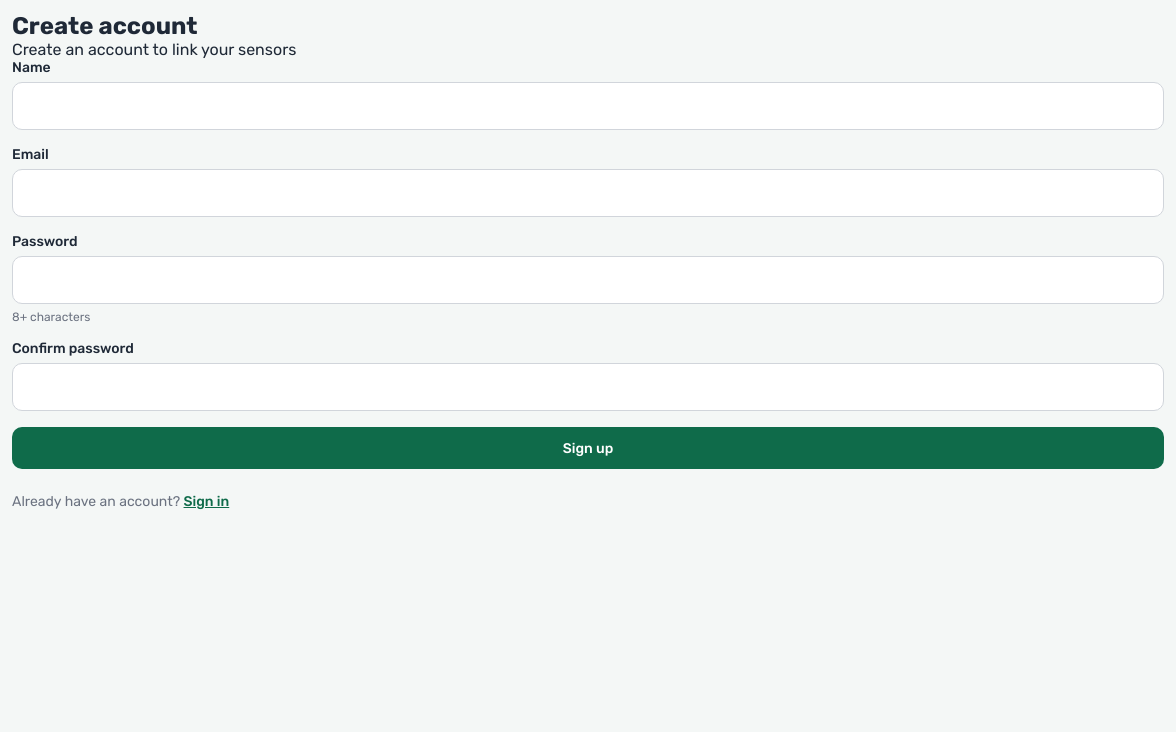
Signup › checks that the two passwords match
Type "Sara" into the field labelled "Name" at (588, 106), box [12,82,1164,130]
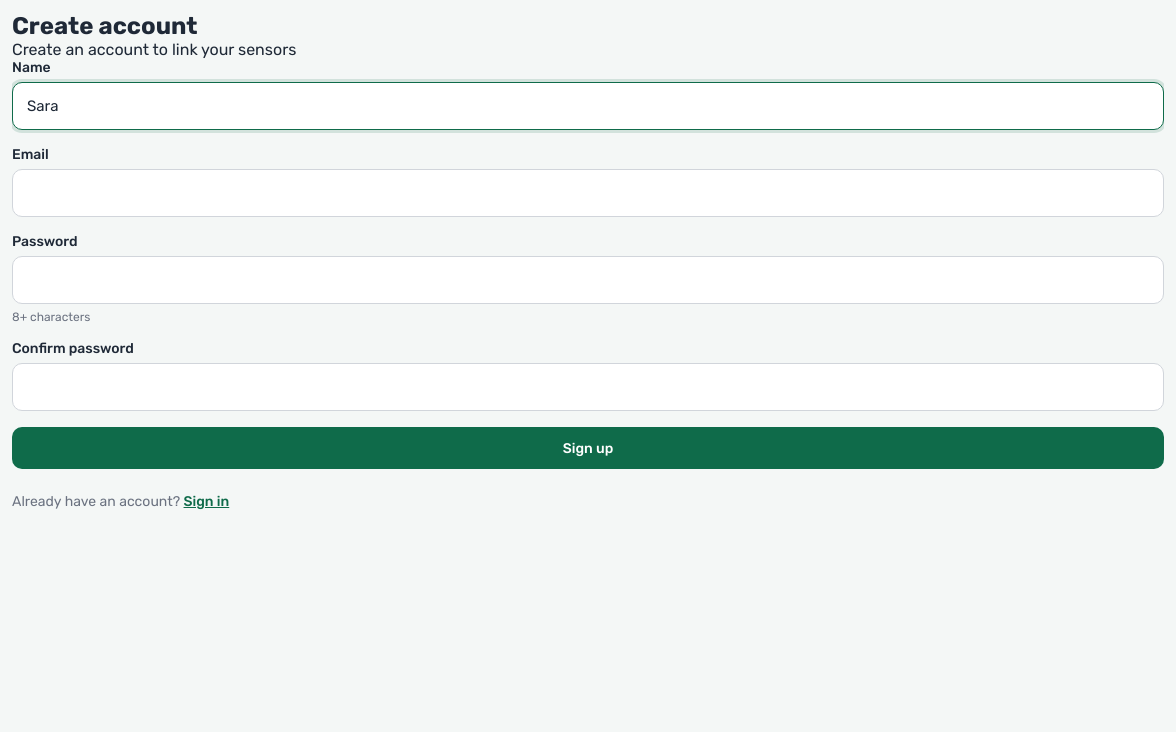
Type "sara@example.com" into the field labelled "Email" at (588, 193), box [12,169,1164,217]
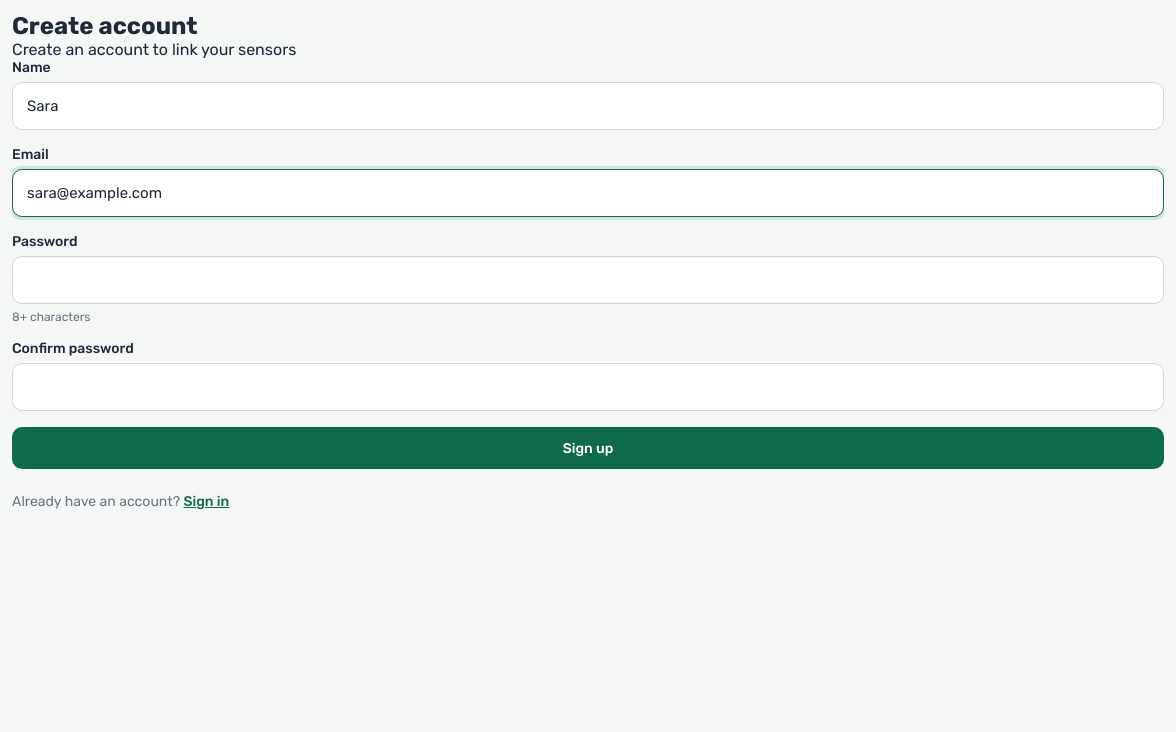
Type "password-1" into the password field labelled "Password 8+ characters" at (588, 280), box [12,256,1164,304]
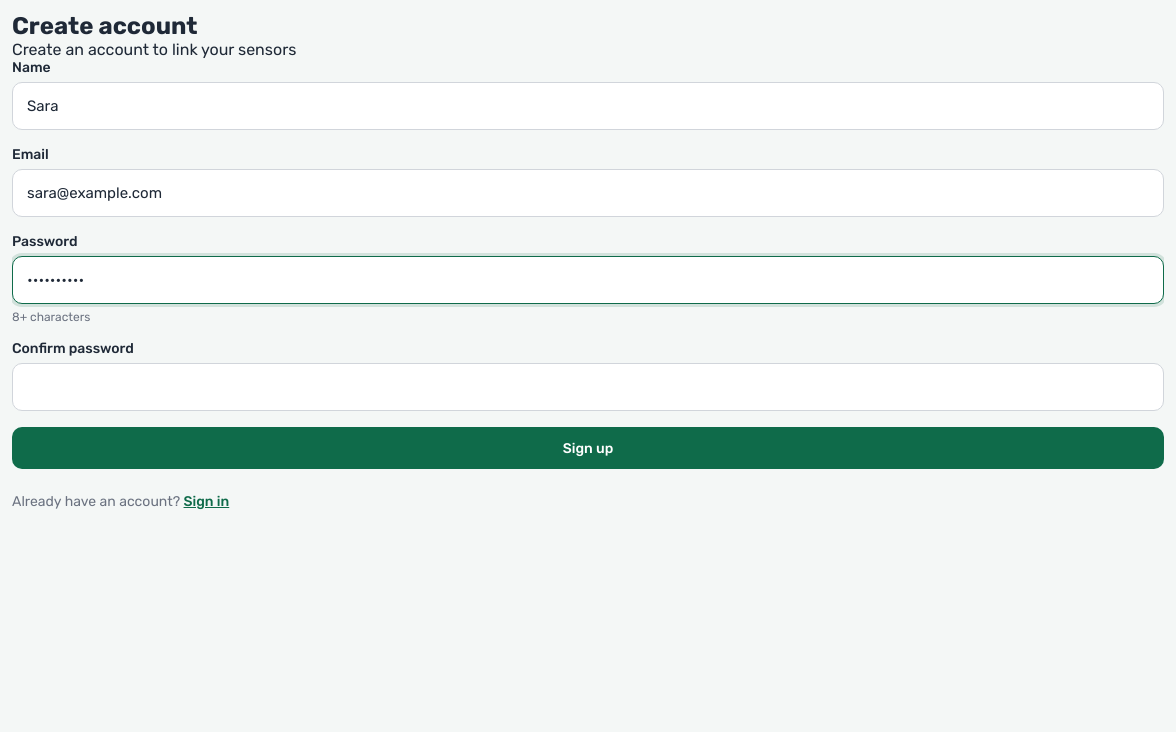
Type "password-2" into the password field labelled "Confirm password" at (588, 387), box [12,363,1164,411]
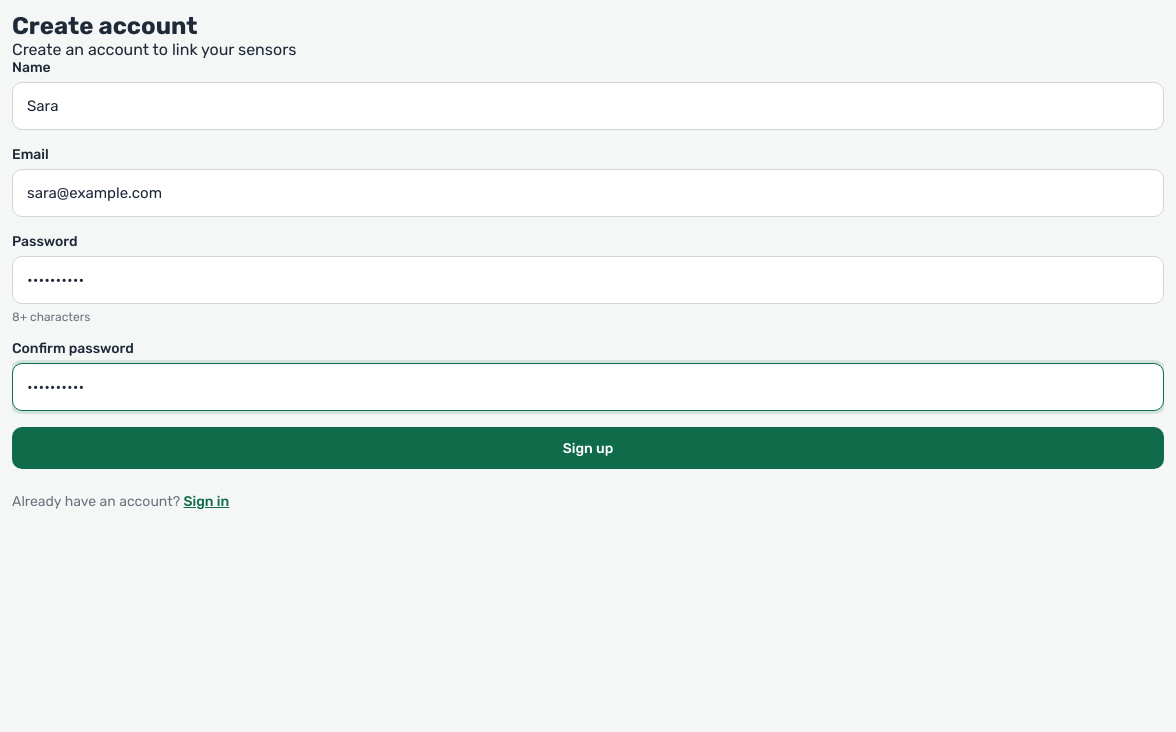
Click the button "Sign up" at (588, 448), box [12,427,1164,469]
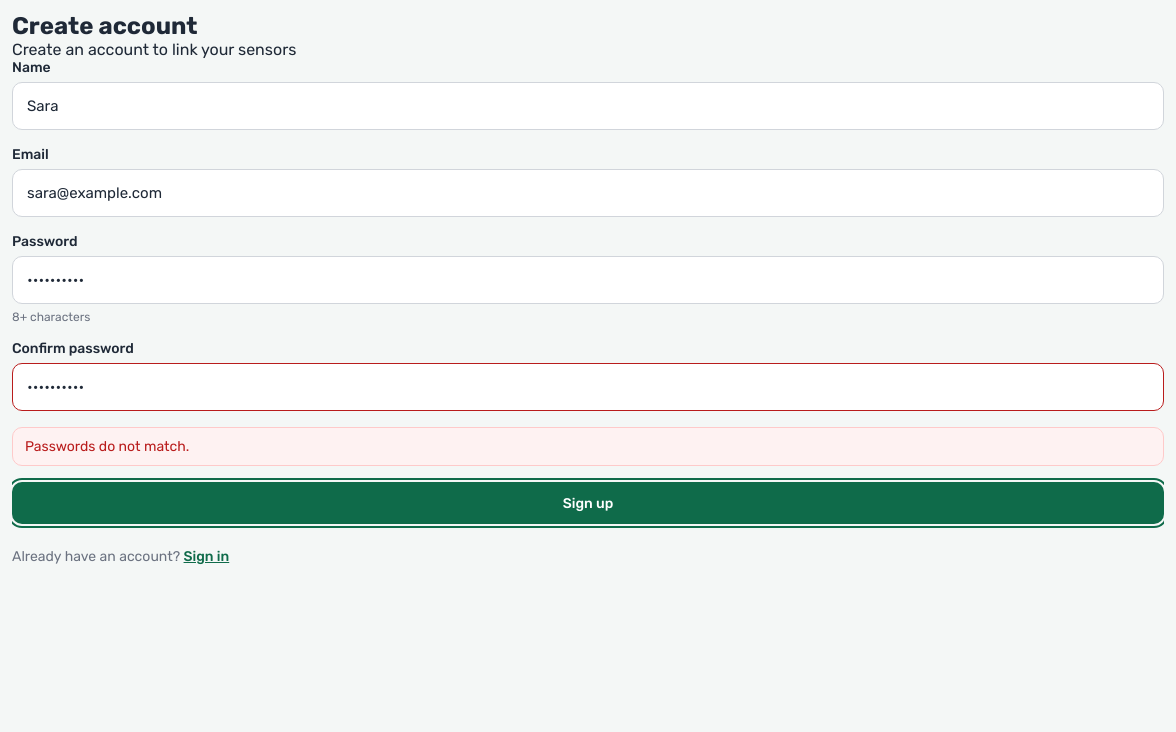
Expected: the message reads "Passwords do not match.", [25,438,189,455]
